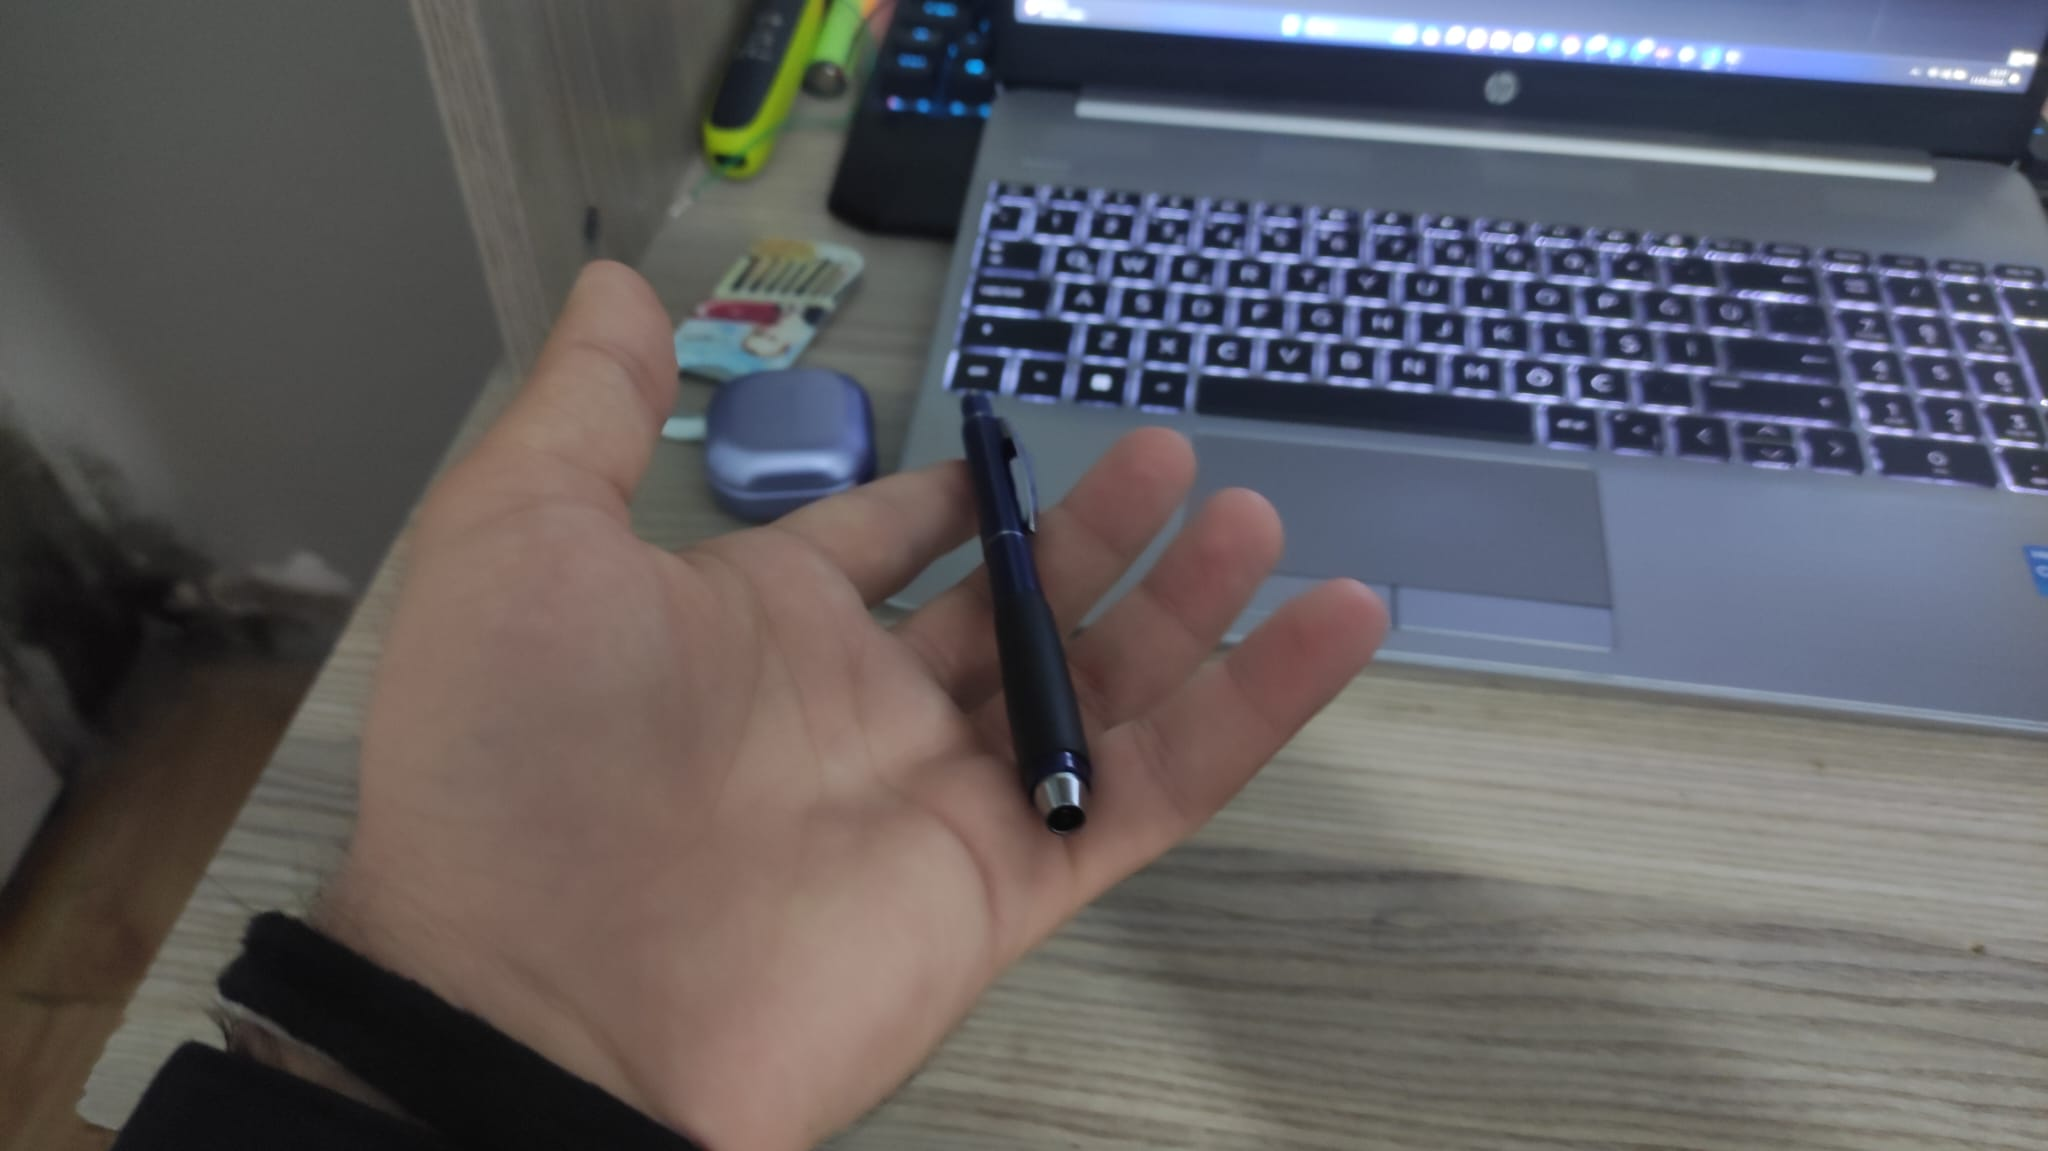kalem: (948, 388, 1097, 834)
